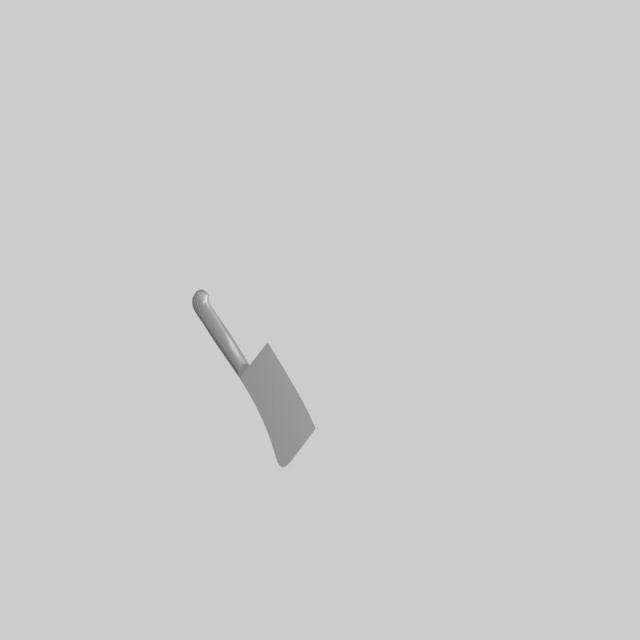knife: (193, 289, 250, 378)
